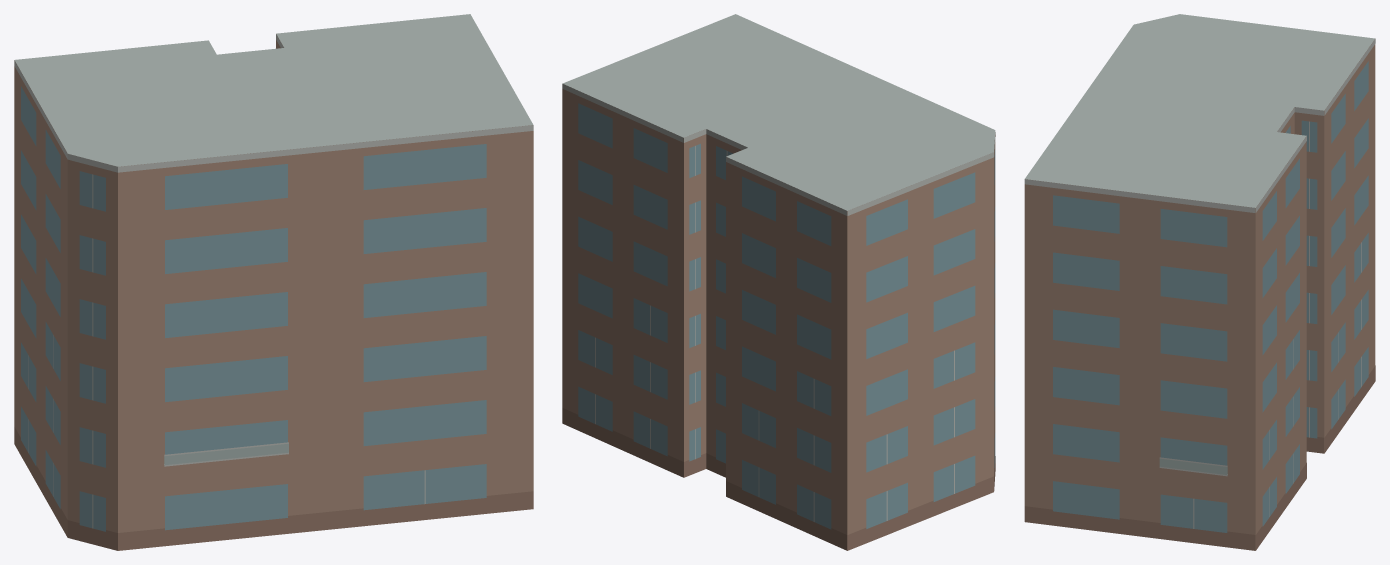
File: survey-upis-32874397.glb
3 views of the same model, side by side, from view 1: azimuth 30°, elevation 25°; view 2: azimuth 150°, elevation 25°; view 3: azimuth 270°, elevation 25° (orthographic). The views are drawn at different scales.
Visible parts, largest first — view 1: survey-upis-32874397.tmp; view 2: survey-upis-32874397.tmp; view 3: survey-upis-32874397.tmp.
Boxes of the visible parts, x1,y1,x2,y2 form: survey-upis-32874397.tmp: (14,14,533,550); survey-upis-32874397.tmp: (562,14,995,550); survey-upis-32874397.tmp: (1024,14,1375,550).
Size of the model in its own units: 19.29 by 15.9 by 14.75.
